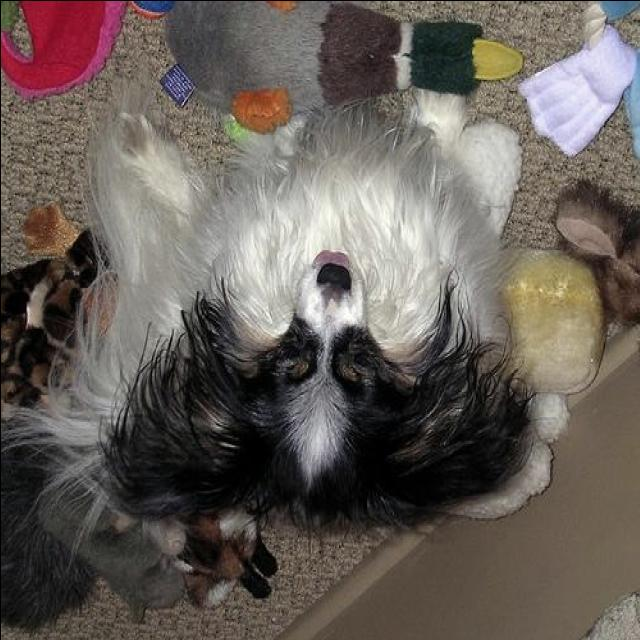papillon: (2, 91, 540, 563)
